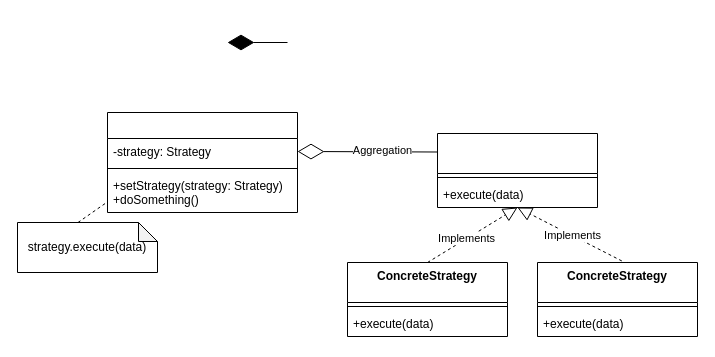
This 715x357 diagram has some shape labels left out. Each missing label, with the box of its shape:
<<Interface>> Strategy: (436, 132, 598, 208)
Context: (106, 112, 298, 212)
